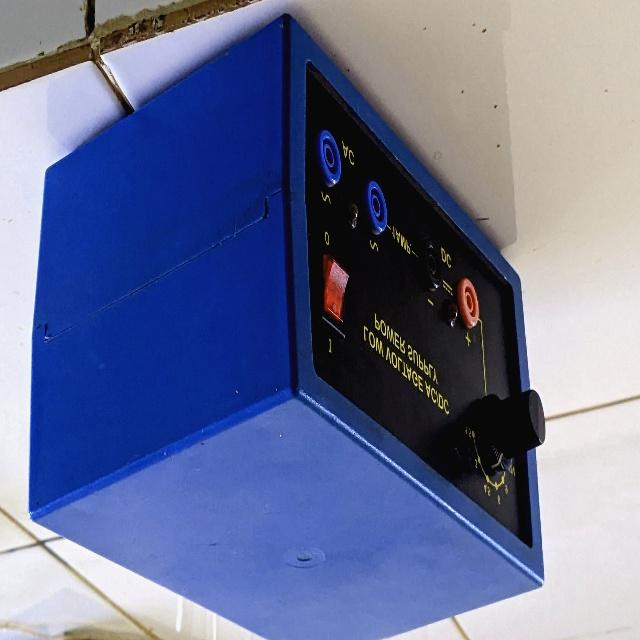Low Voltage AC-DC Power Supply 12 V: (25, 5, 591, 640)
